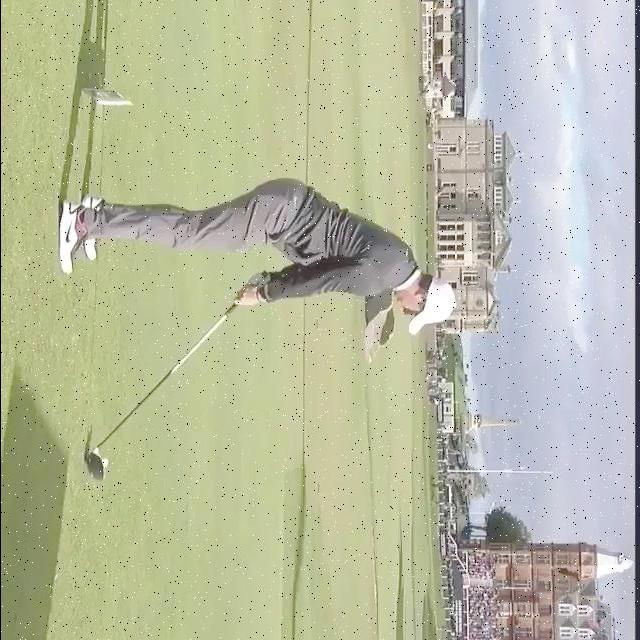ClubHandle: (77, 271, 268, 483)
ClubHead: (81, 452, 107, 483)
GolfBall: (101, 459, 110, 469)
